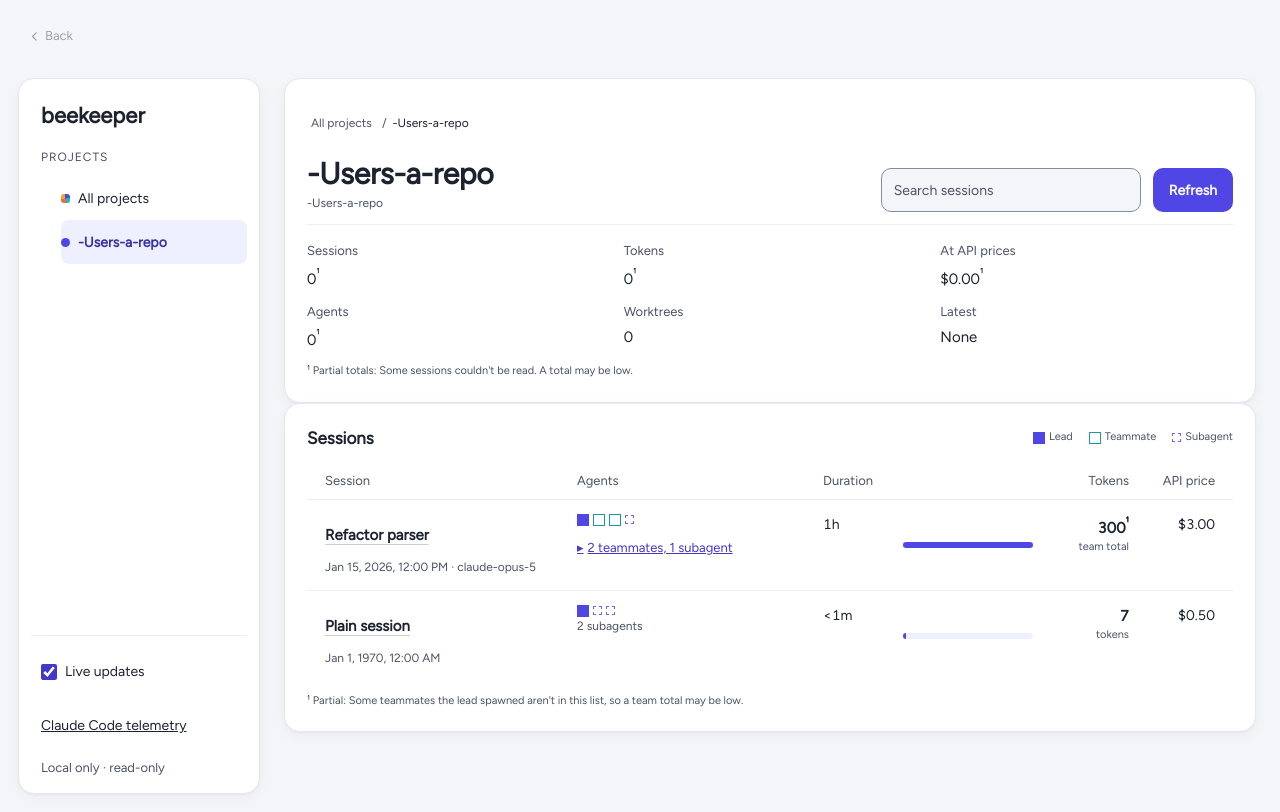
session cards: search › marks a matching teammate whatever the case of the search
The image size is (1280, 812).
Type "REVIEW" into the search field labelled "Search sessions".
click(1011, 190); type("REVIEW")  # box [881,168,1141,212]
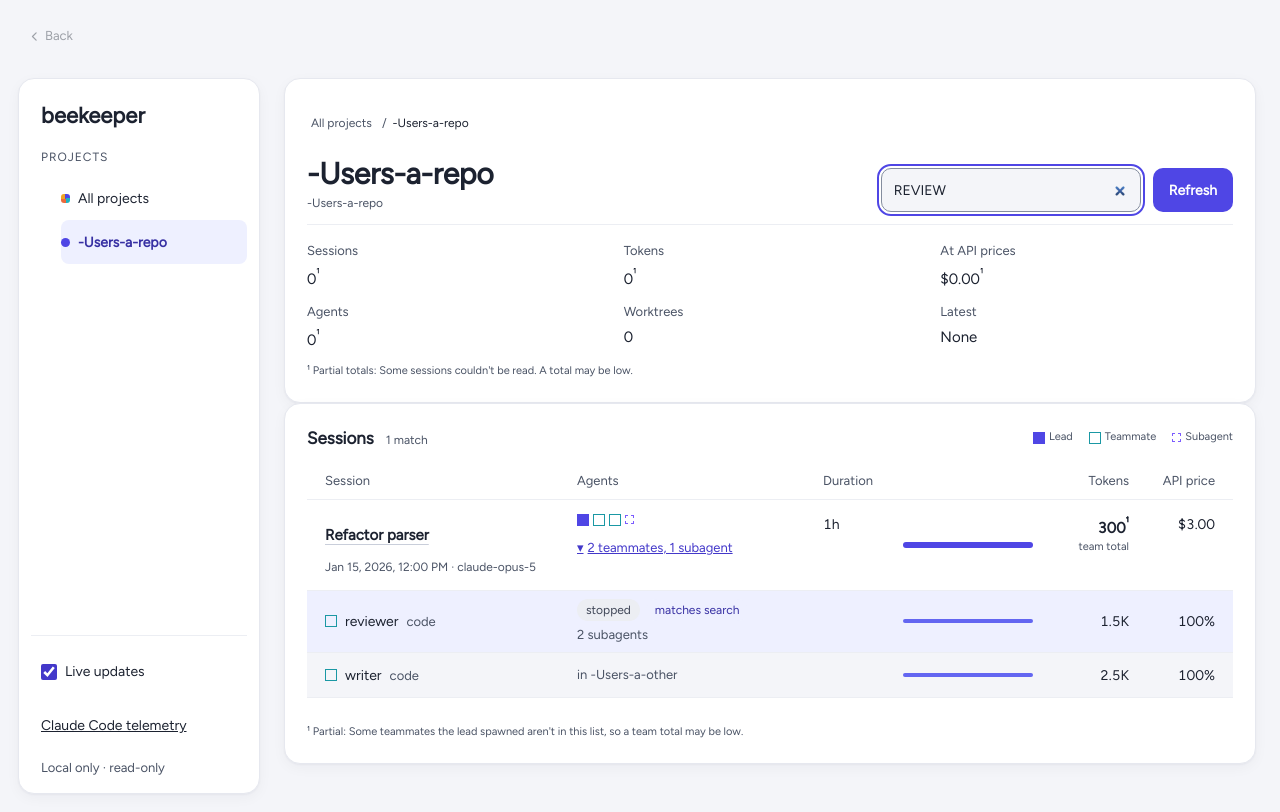
Expected: the text "matches search" is shown once, [646,598,748,620]
